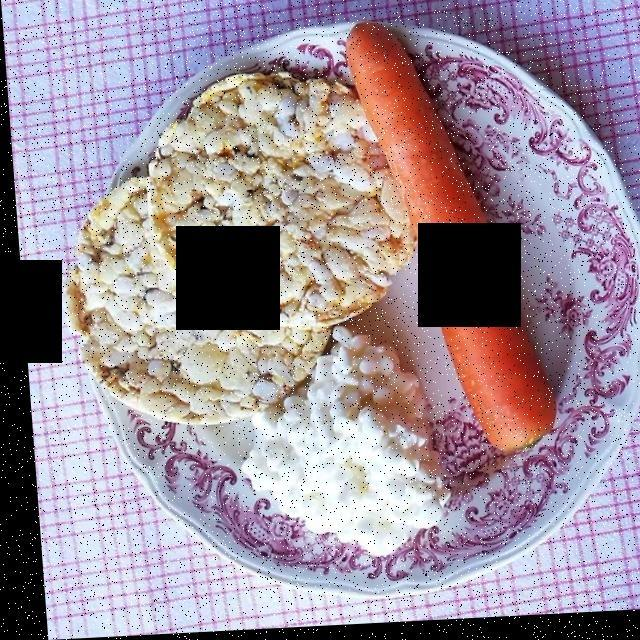carrot: (349, 33, 543, 453)
cheese: (228, 337, 444, 559)
